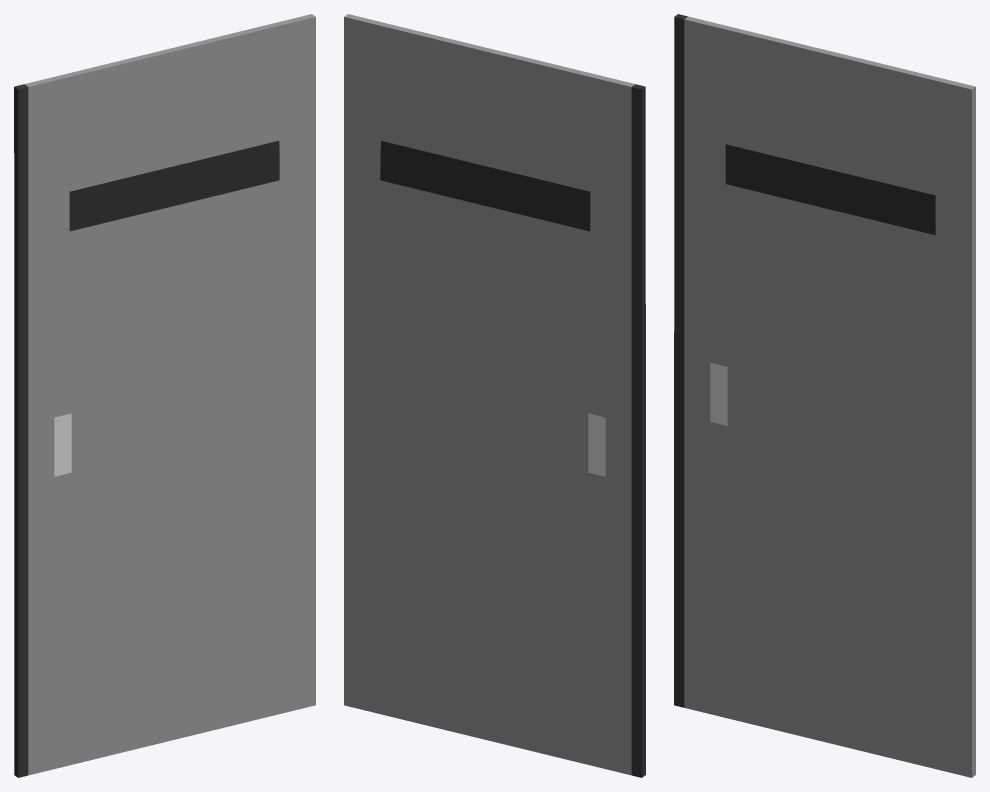
Rendered from Door1.fbx.
The picture shows the model from 3 angles, left to right: view 1: azimuth 30°, elevation 25°; view 2: azimuth 150°, elevation 25°; view 3: azimuth 330°, elevation 25°; orthographic projection.
Visible parts, largest first — view 1: door1:Door001; view 2: door1:Door001; view 3: door1:Door001.
Boxes of the visible parts, bbox=[...] form: door1:Door001: bbox=[14, 14, 315, 777]; door1:Door001: bbox=[344, 14, 645, 777]; door1:Door001: bbox=[674, 14, 975, 777].
Size of the model in its own units: 117 by 259 by 2.75.
